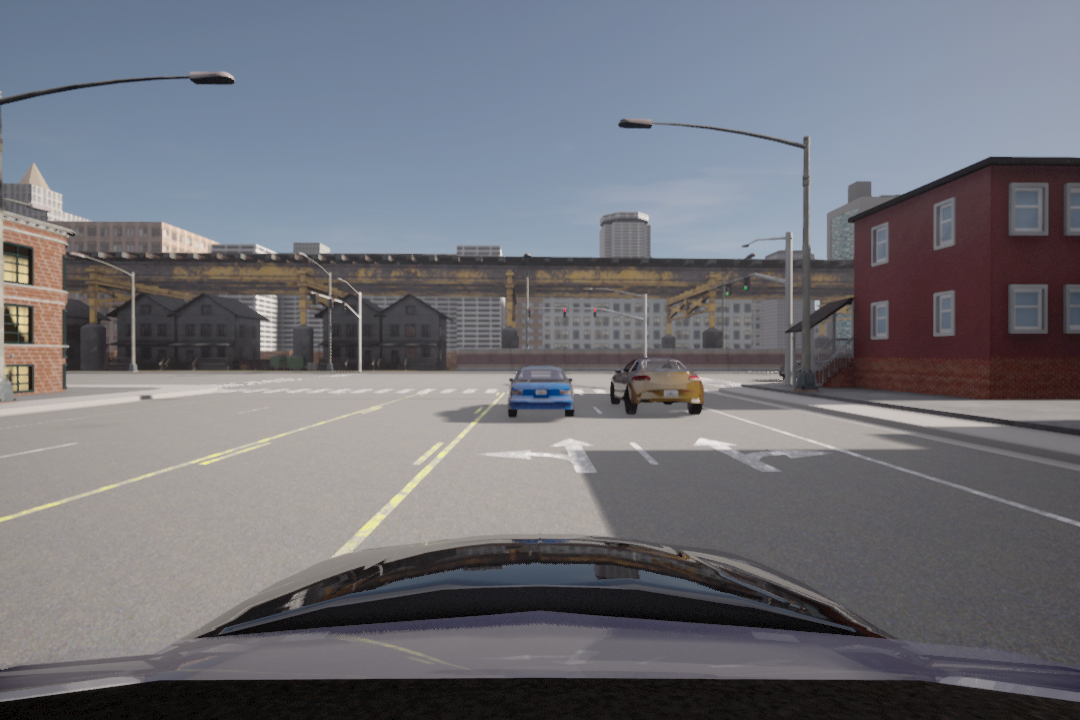RoadSign_forward_left: (481, 437, 604, 486)
RoadSign_forward_right: (684, 428, 826, 482)
walkside: (221, 384, 733, 401)
